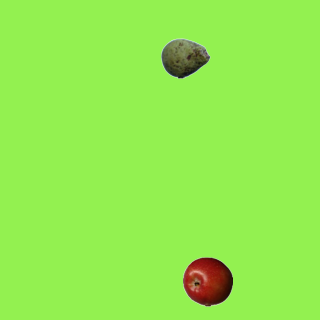Apple Braeburn: (182, 256, 232, 306)
Pear Stone: (160, 33, 210, 83)
